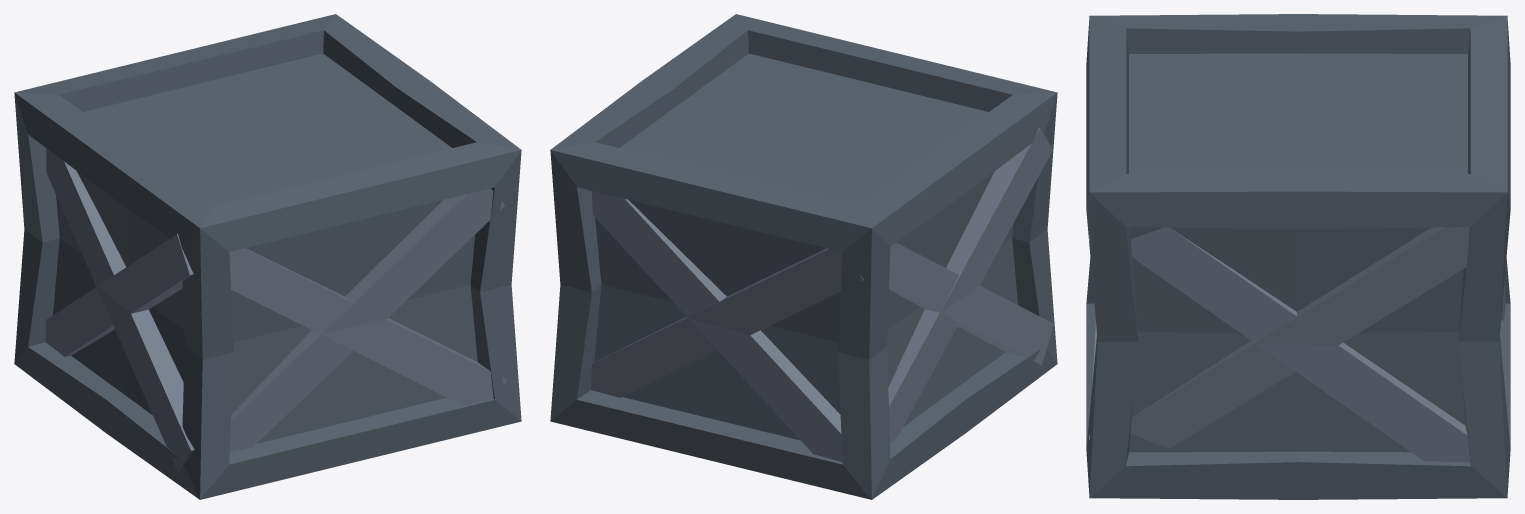
File: Metalbox.FBX
The picture shows the model from 3 angles, left to right: view 1: azimuth 30°, elevation 25°; view 2: azimuth 150°, elevation 25°; view 3: azimuth 270°, elevation 25°; orthographic projection. The views are drawn at different scales.
Parts seen in each view (by area): view 1: Box001; view 2: Box001; view 3: Box001.
Part boxes in pixels (x1=…): Box001: x1=14, y1=14, x2=521, y2=499; Box001: x1=550, y1=14, x2=1057, y2=499; Box001: x1=1086, y1=14, x2=1510, y2=499.
Size of the model in its own units: 28.45 by 23.03 by 28.41.
